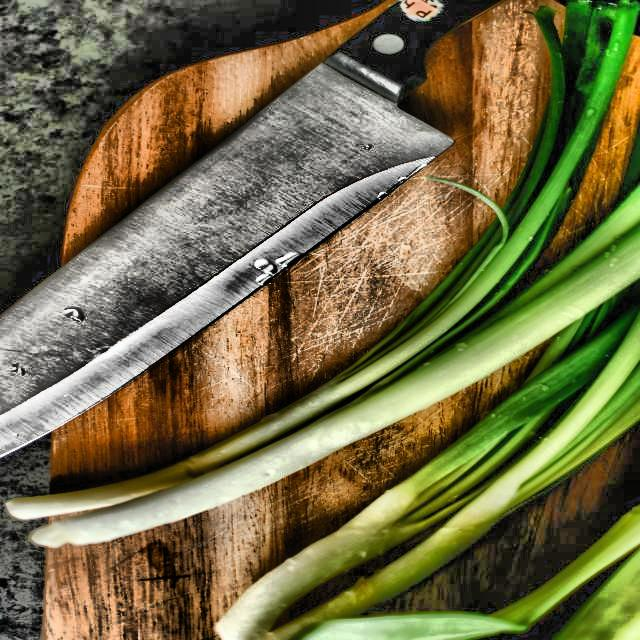knife: (0, 0, 515, 468)
